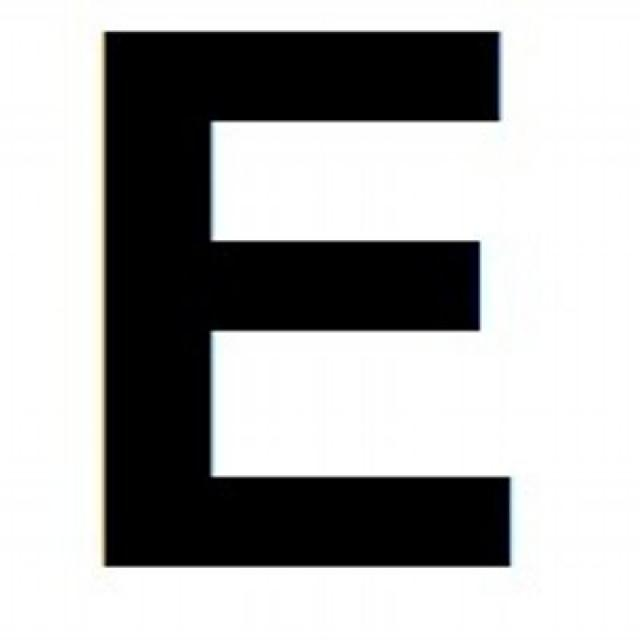E: (59, 11, 568, 604)
